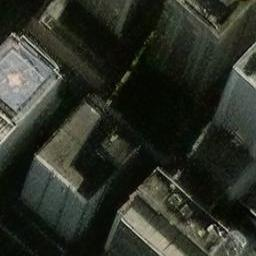heliponto: (0, 52, 45, 112)
